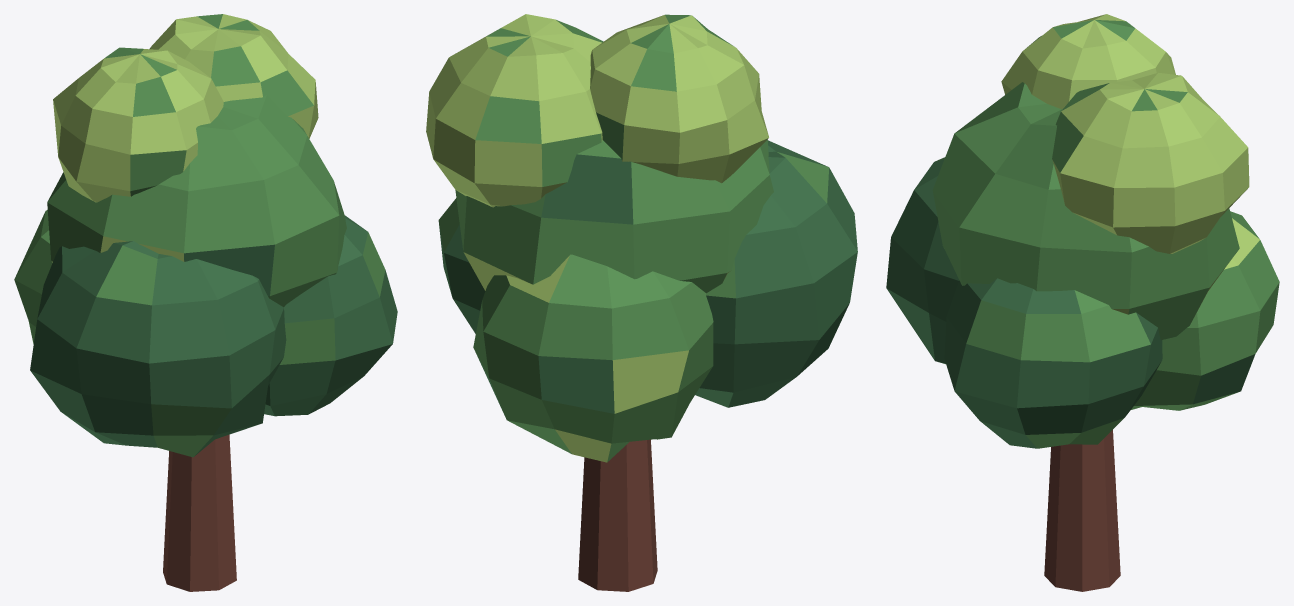
Rendered from leafy-tree.glb.
3 renders of one model, left to right at view 1: azimuth 30°, elevation 25°; view 2: azimuth 150°, elevation 25°; view 3: azimuth 270°, elevation 25°, orthographic. The views are drawn at different scales.
Visible parts, largest first — view 1: leafy-tree; view 2: leafy-tree; view 3: leafy-tree.
Part boxes in pixels (bbox=[...]): leafy-tree: bbox=[14, 14, 397, 591]; leafy-tree: bbox=[426, 14, 857, 591]; leafy-tree: bbox=[886, 14, 1279, 591].
Size of the model in its own units: 2.07 by 3.06 by 2.06.
